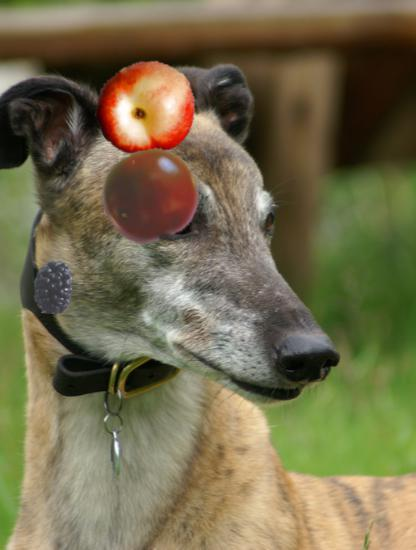Mulberry: (26, 260, 81, 315)
Nectarine: (96, 59, 198, 161)
Tomato: (101, 146, 200, 245)
